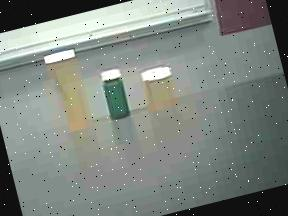Bottle A: (33, 38, 104, 140)
Bottle B: (134, 57, 184, 118)
Bottle C: (96, 63, 136, 123)
